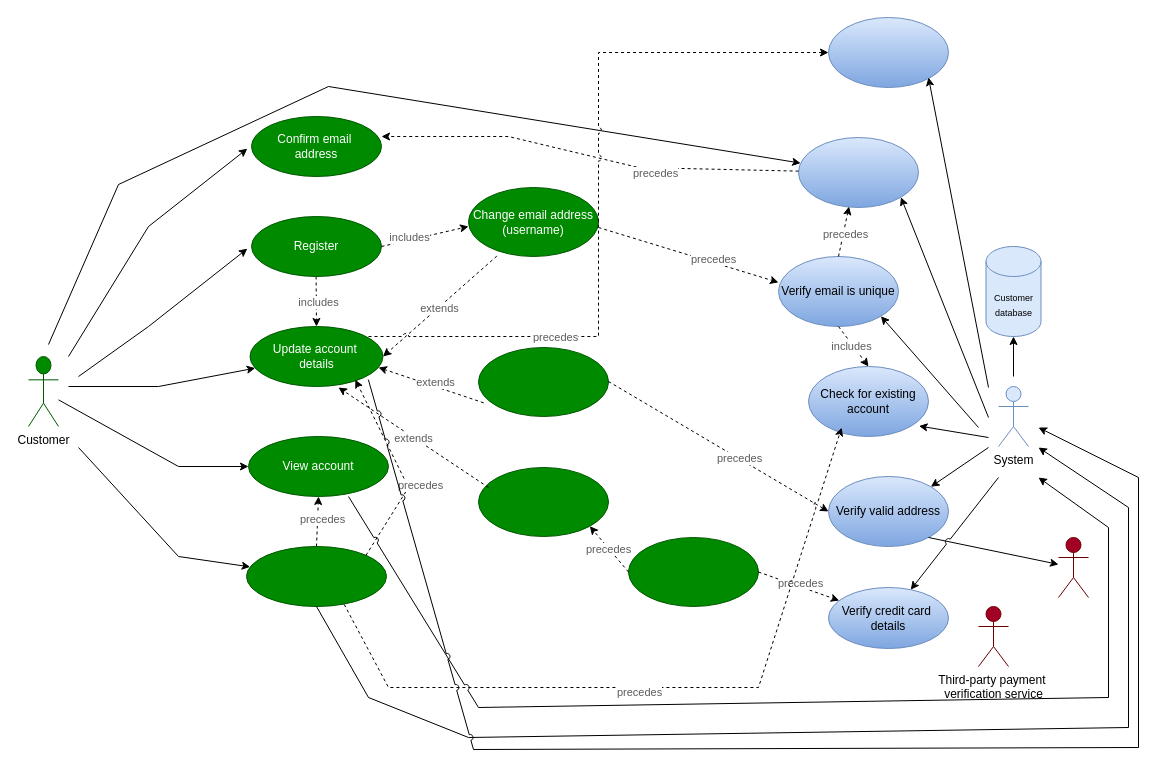
Image size: 1164x775. Some labels were removed from this diagram. The shapes that lost their labels are listed below. From the top down, each one's centre as x and y in pixels, then its label:
At point (888, 52): "Update customer database".
At point (858, 172): "Send confirmation link via email".
At point (543, 381): "Add delivey address".
At point (543, 501): "Add payment method".
At point (316, 576): "Login".
At point (693, 571): "Enter payment details".
At point (1073, 567): "MAP API".
